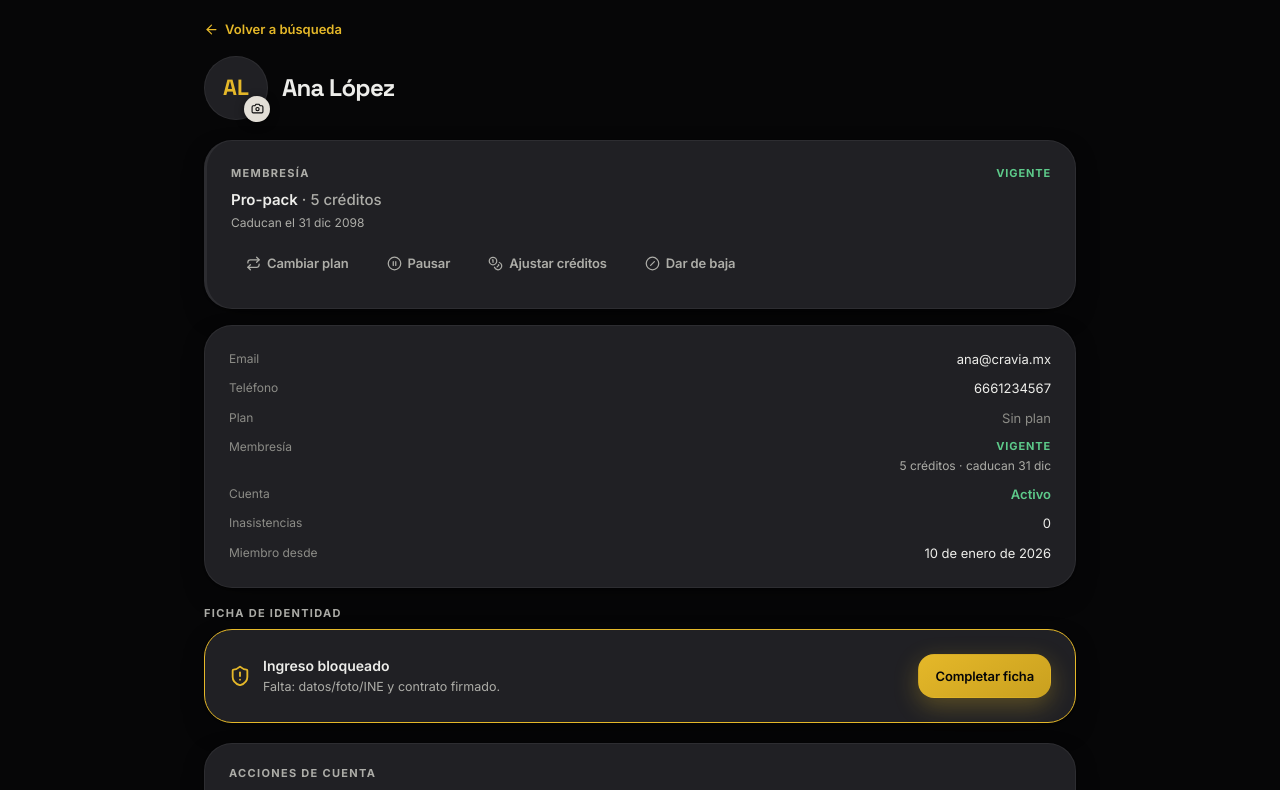
Scenario: PerfilMiembroRecepcion · gestión front-desk › tarjeta de membresía › "Dar de baja" sin suscripción de Stripe explica que la baja es inmediata y avisa de los créditos
Click the button "Dar de baja": coordinates (690, 264) [630,244,750,284]
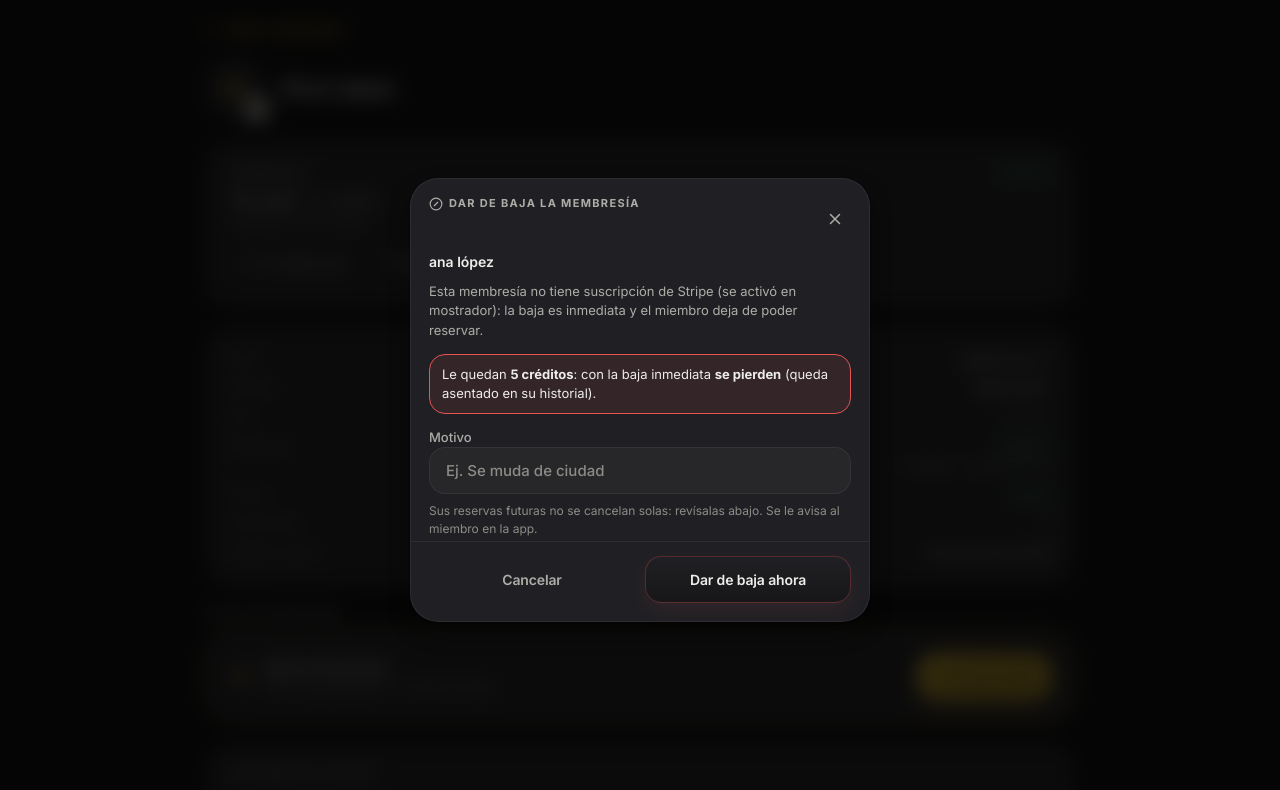
Check: the text "la baja es inmediata" is shown, box [429,283,797,338]
Check: the message shows "5 créditos", box [429,354,851,414]
